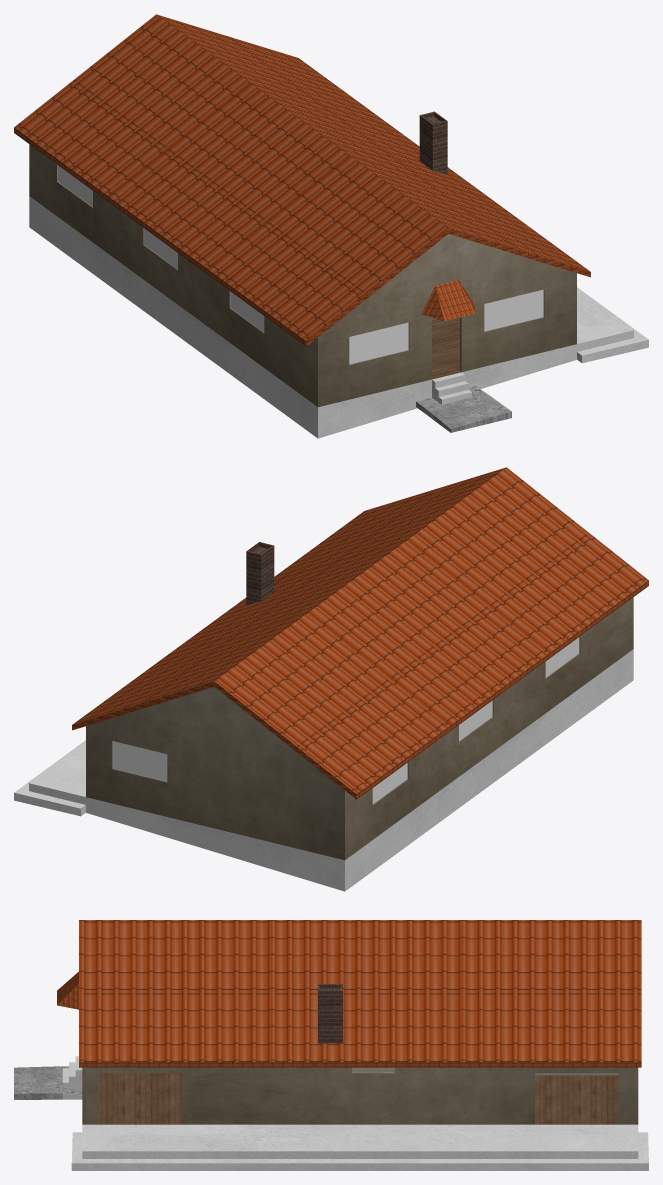
File: Casa.fbx
The picture shows the model from 3 angles, top to bottom: view 1: azimuth 30°, elevation 25°; view 2: azimuth 150°, elevation 25°; view 3: azimuth 270°, elevation 25°; orthographic projection. The views are drawn at different scales.
Parts seen in each view (by area): view 1: Techo, Paredes Casa, Piso y base Casa, Escalera entrada, Campana, Techo entrada; view 2: Techo, Paredes Casa, Piso y base Casa, Campana; view 3: Techo, Piso y base Casa, Paredes Casa, Escalera entrada, Campana, Techo entrada.
Part boxes in pixels (x1,y1,x2,y2): Techo: (14,14,590,346); Paredes Casa: (29,144,576,407); Piso y base Casa: (29,196,648,438); Escalera entrada: (416,372,511,432); Campana: (419,111,447,174); Techo entrada: (421,280,475,321); Techo: (72,467,648,799); Paredes Casa: (86,597,633,860); Piso y base Casa: (14,649,633,891); Campana: (246,542,274,605); Techo: (79,920,641,1067); Piso y base Casa: (71,1073,648,1170); Paredes Casa: (82,1067,638,1124); Escalera entrada: (14,1056,82,1099); Campana: (318,984,342,1043); Techo entrada: (57,972,78,1009).
Bounding box in the file's own units: 22.63 × 11.5 × 38.14.
